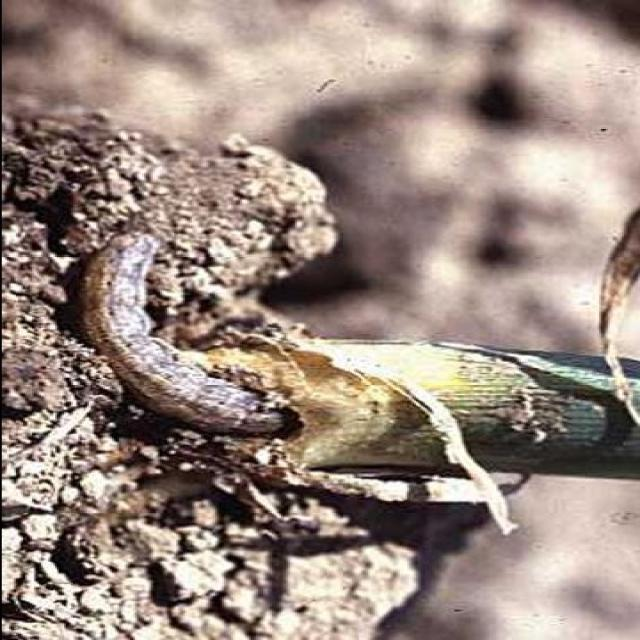black cutworm: (71, 233, 276, 435)
